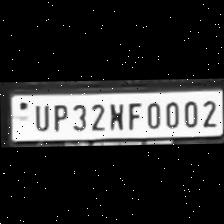0: (140, 99, 162, 128), (161, 98, 181, 128), (179, 97, 199, 126)
2: (86, 99, 106, 130), (198, 98, 218, 128)
3: (68, 99, 86, 130)
F: (124, 99, 142, 128)
N: (104, 98, 124, 130)
P: (48, 100, 68, 130)
U: (29, 100, 49, 130)
